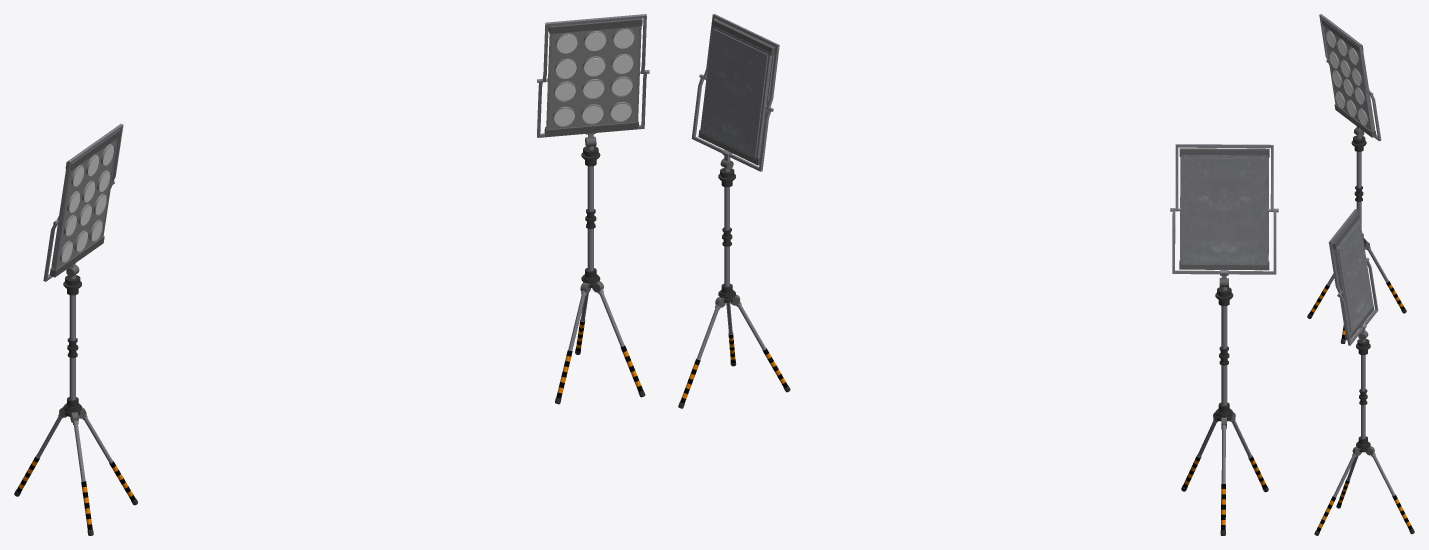
Rendered from light.fbx.
3 views of the same model, side by side, from view 1: azimuth 30°, elevation 25°; view 2: azimuth 150°, elevation 25°; view 3: azimuth 270°, elevation 25° (orthographic). The views are drawn at different scales.
Visible parts, largest first — view 1: Cylinder.001, Cylinder; view 2: Cylinder, Cylinder.001; view 3: Cylinder.001, Cylinder.
Boxes of the visible parts, x1,y1,x2,y2 form: Cylinder.001: (537, 14, 649, 404); Cylinder: (14, 124, 137, 535); Cylinder: (1170, 144, 1278, 535); Cylinder.001: (678, 14, 790, 408); Cylinder.001: (1314, 209, 1414, 535); Cylinder: (1307, 14, 1406, 343).
Bounding box in the file's own units: 741 × 435 × 142.
